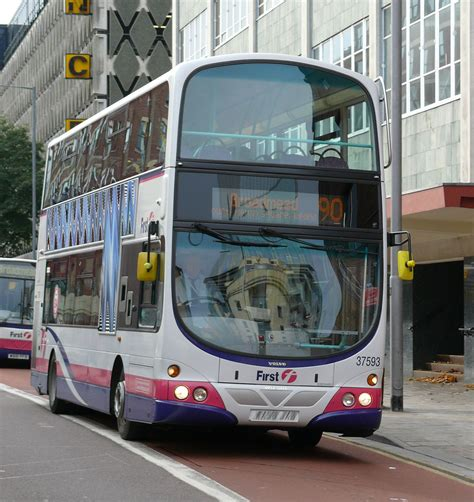bus: (36, 57, 383, 443)
